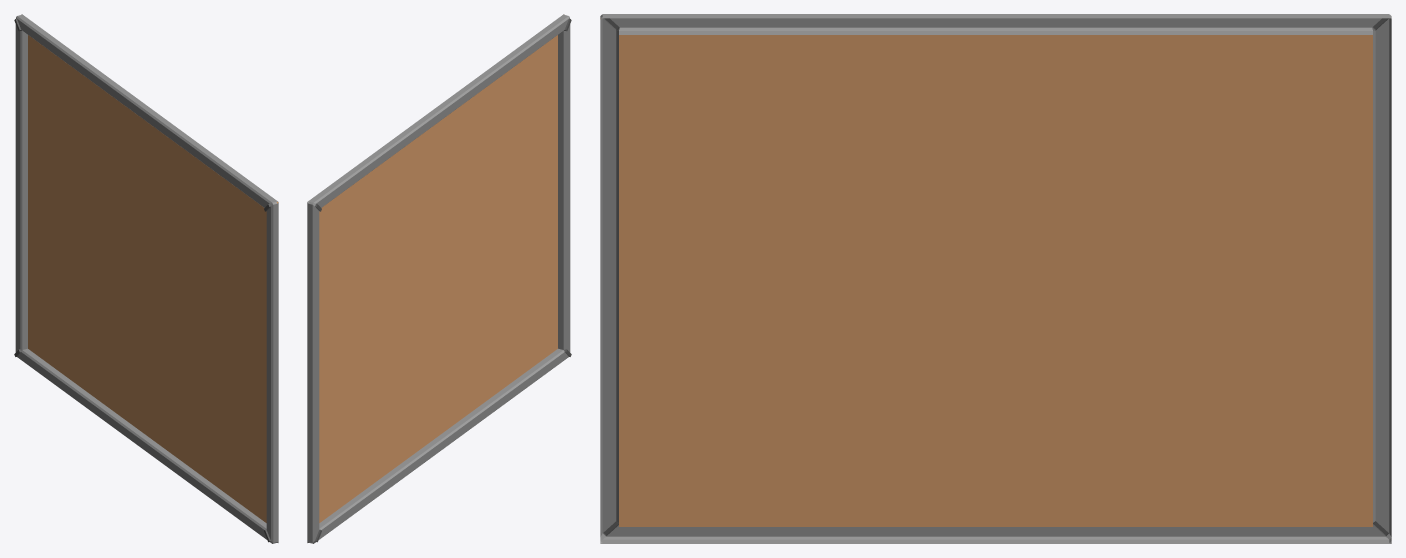
The model's file is tblpostit 1.fbx.
3 renders of one model, left to right at view 1: azimuth 30°, elevation 25°; view 2: azimuth 150°, elevation 25°; view 3: azimuth 270°, elevation 25°, orthographic. The views are drawn at different scales.
Visible parts, largest first — view 1: Plane; view 2: Plane; view 3: Plane.
Part boxes in pixels (x1=…): Plane: x1=14, y1=14, x2=278, y2=543; Plane: x1=307, y1=14, x2=571, y2=543; Plane: x1=600, y1=14, x2=1391, y2=543.
Size of the model in its own units: 5.22 by 200 by 273.
